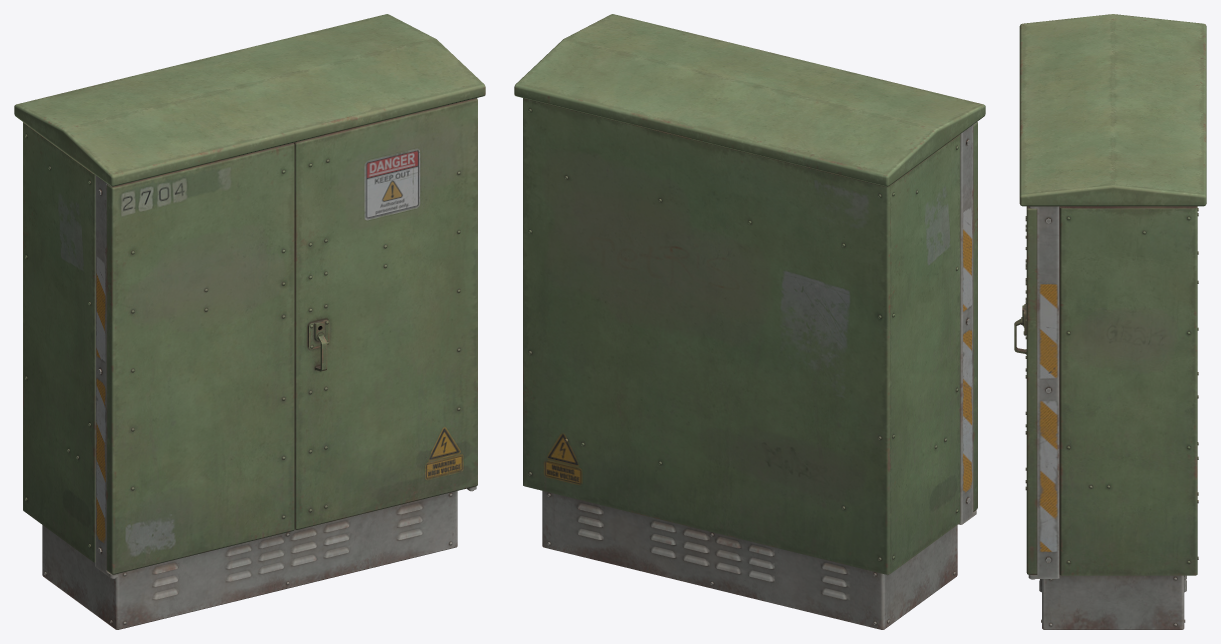
Rendered from electric_box_44.glb.
3 renders of one model, left to right at view 1: azimuth 30°, elevation 25°; view 2: azimuth 150°, elevation 25°; view 3: azimuth 270°, elevation 25°, orthographic. The views are drawn at different scales.
Visible parts, largest first — view 1: utility_box_02; view 2: utility_box_02; view 3: utility_box_02.
Part boxes in pixels (x1,y1,x2,y2): utility_box_02: [14, 14, 485, 629]; utility_box_02: [514, 14, 985, 629]; utility_box_02: [1014, 14, 1206, 629].
Bounding box in the file's own units: 0.92 × 1.12 × 0.432.
Materials: 1 (1 with a texture image).
